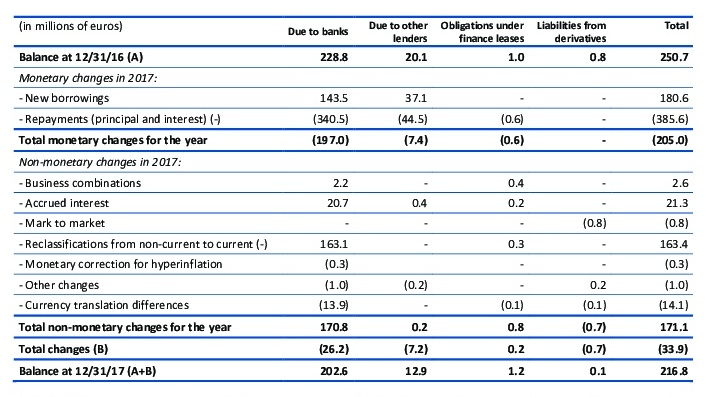table: (0, 0, 712, 397)
